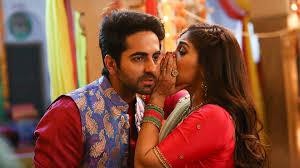Bad: (34, 10, 266, 168)
